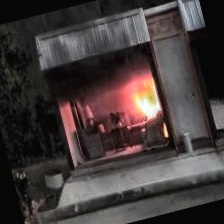fire: (127, 69, 170, 123)
